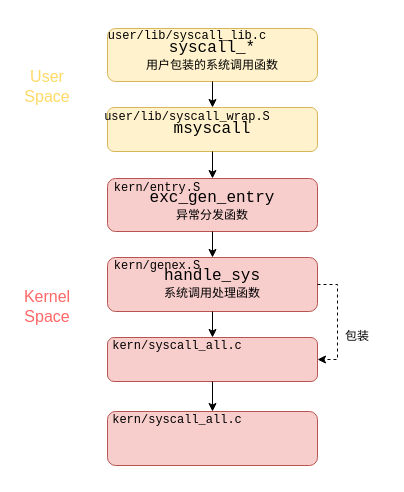
This 404x492 diagram has some shape labels left out. Here are the shapes that lost their labels. From the top down, the box of each, then its label:
(106, 336, 318, 382): do_syscall
(106, 410, 318, 466): sys_* 系统调用函数
